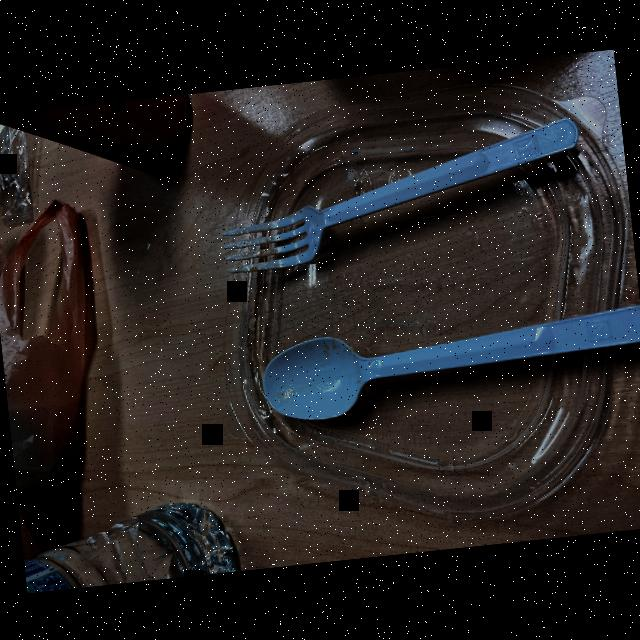plastic_spoon: (205, 115, 609, 282), (246, 279, 640, 436)
